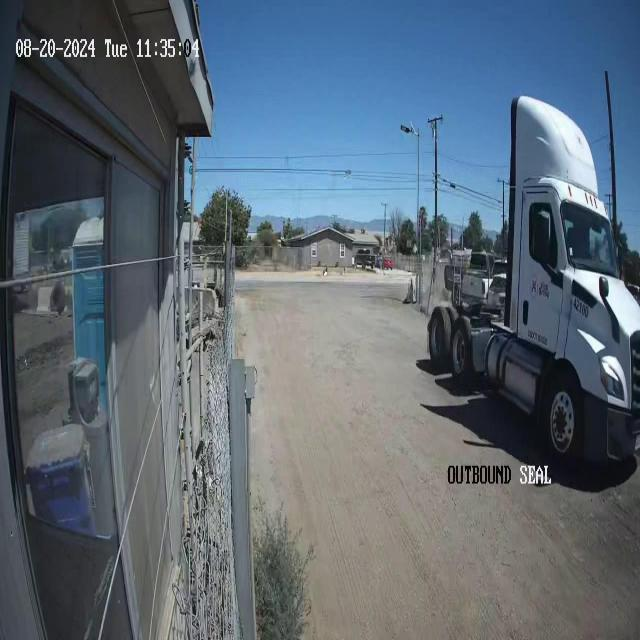TRUCK_IN: (426, 93, 639, 471)
